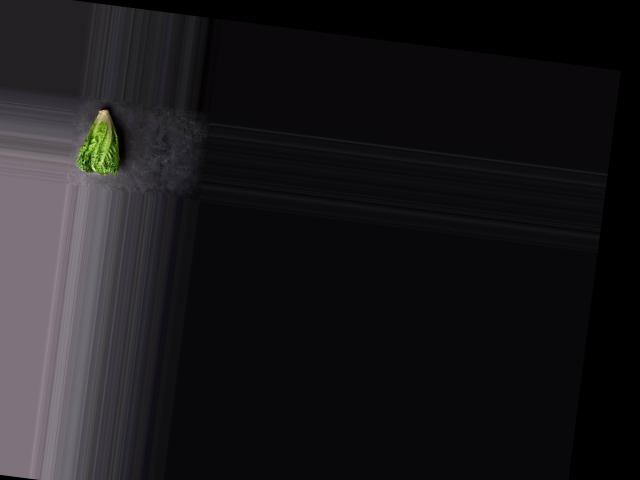lettuce: (74, 101, 128, 177)
